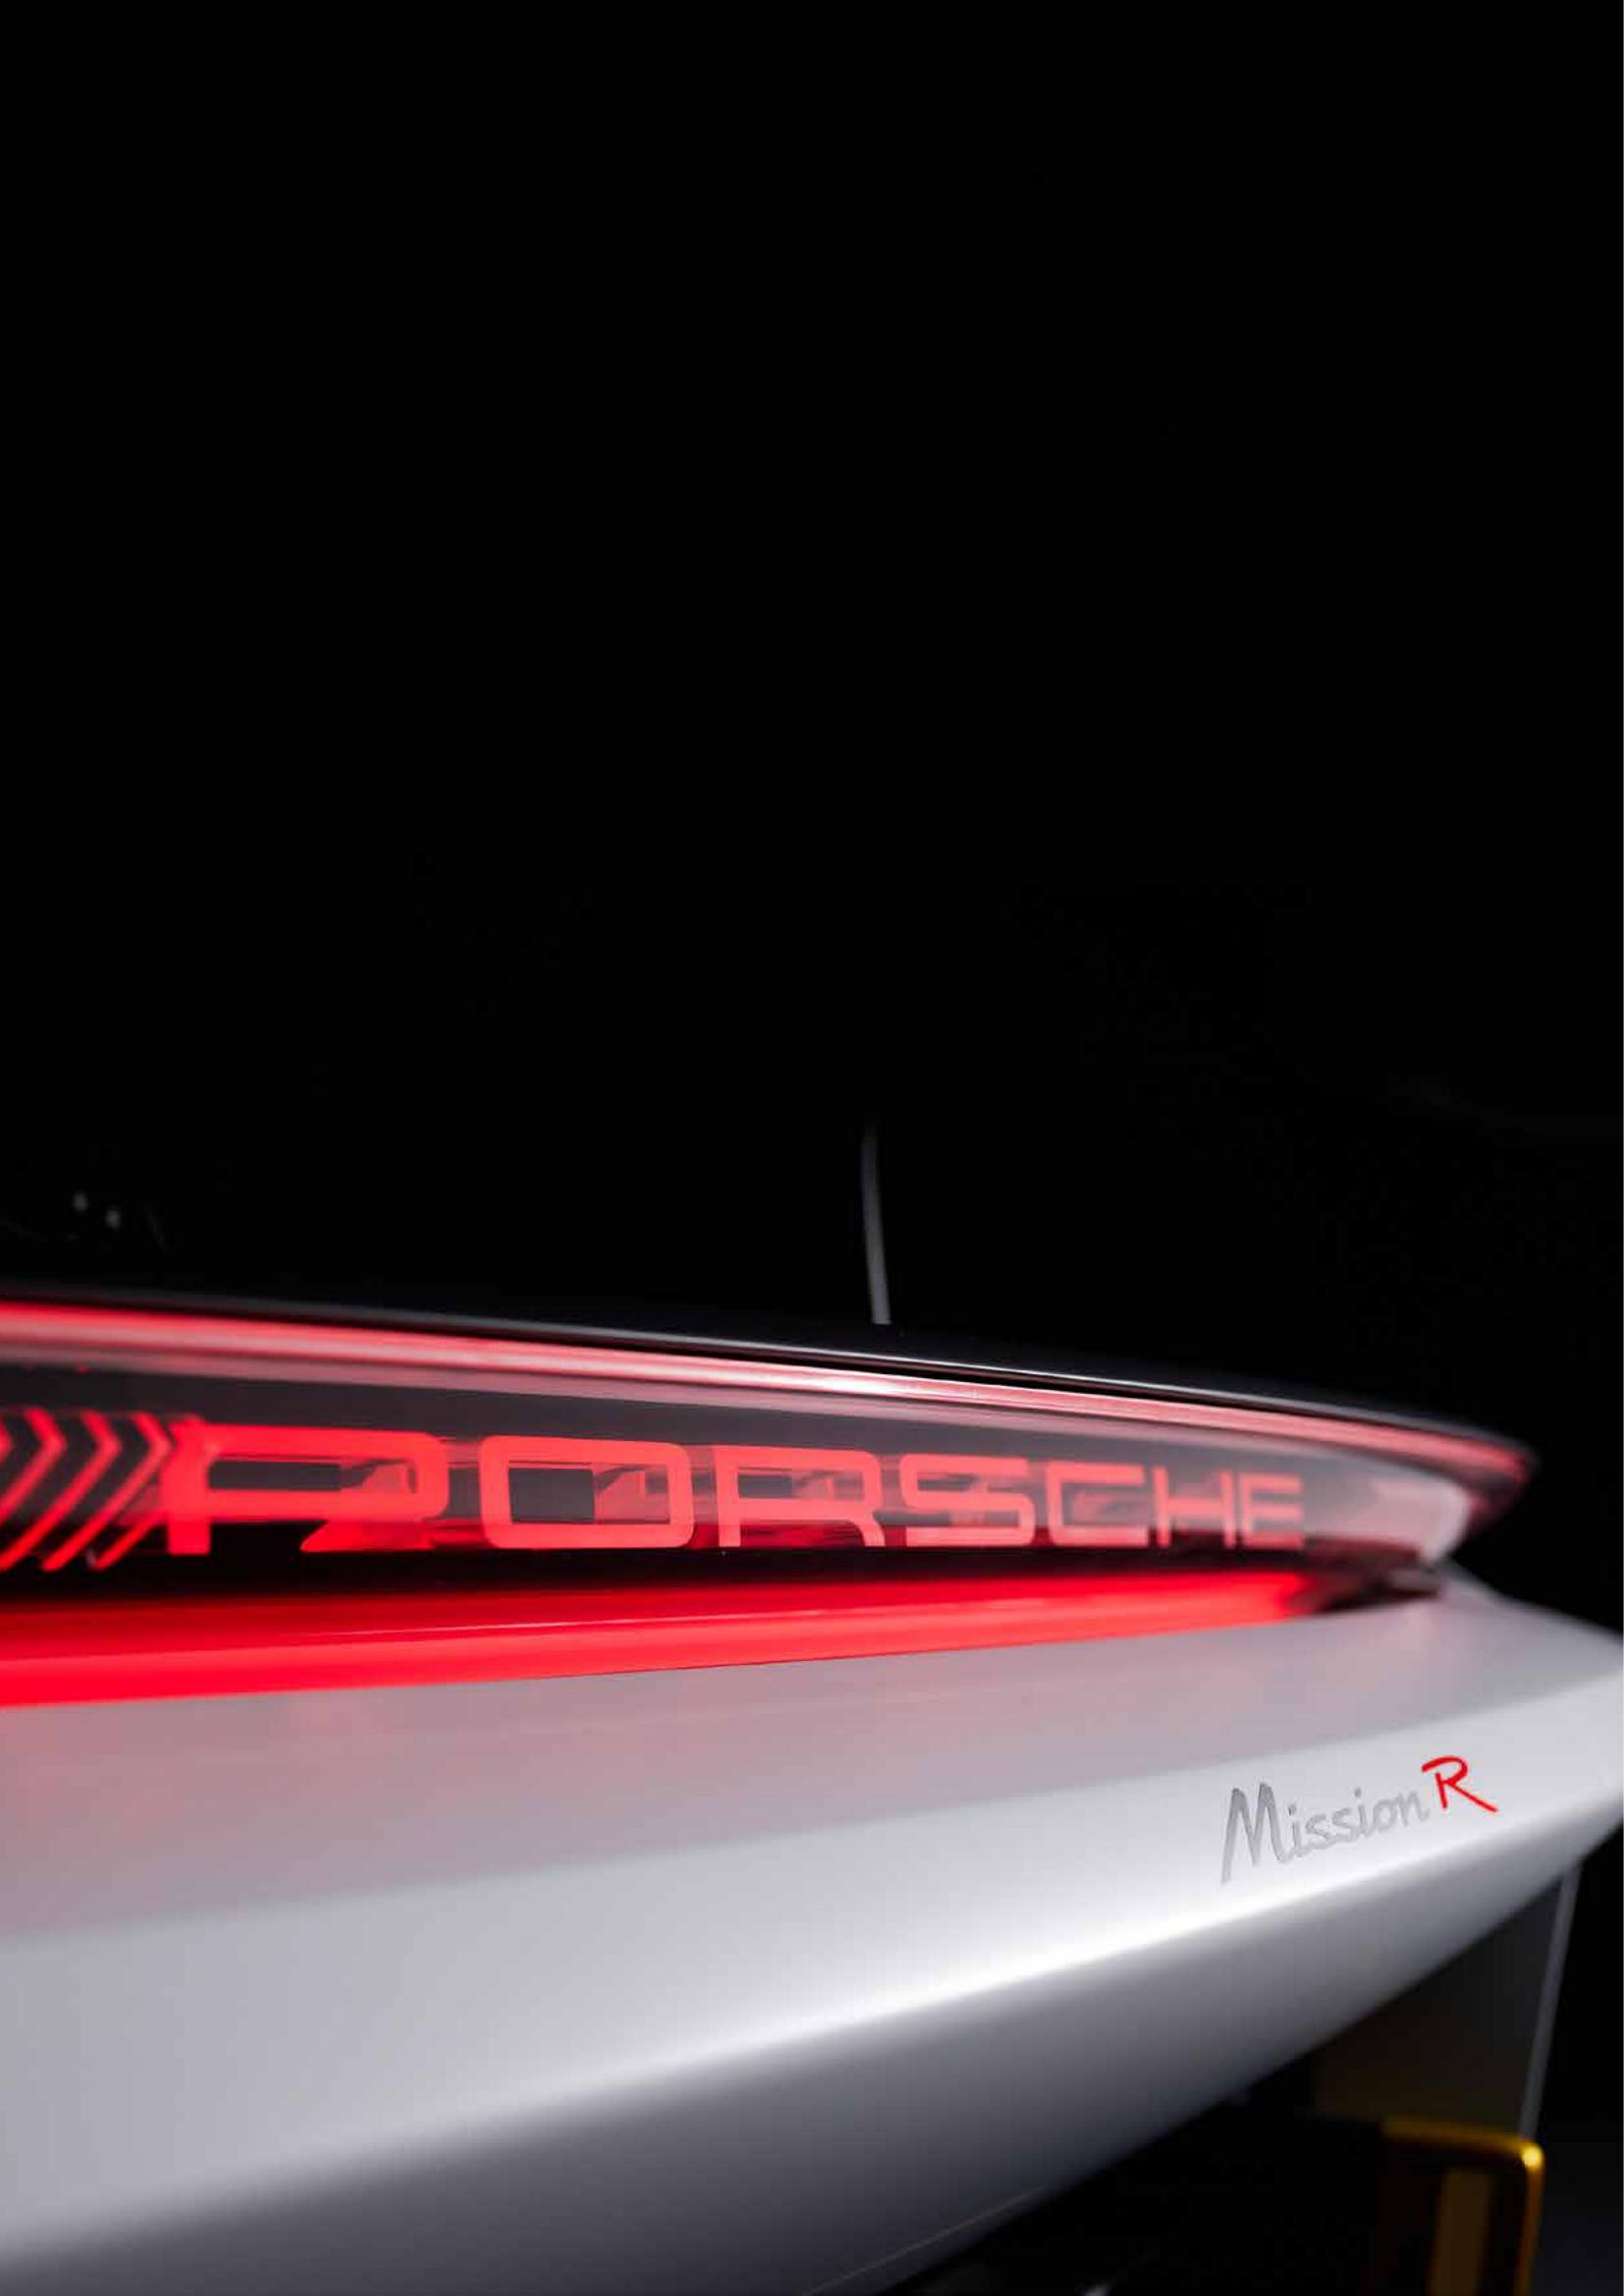Image: (0, 0, 1624, 2296)
